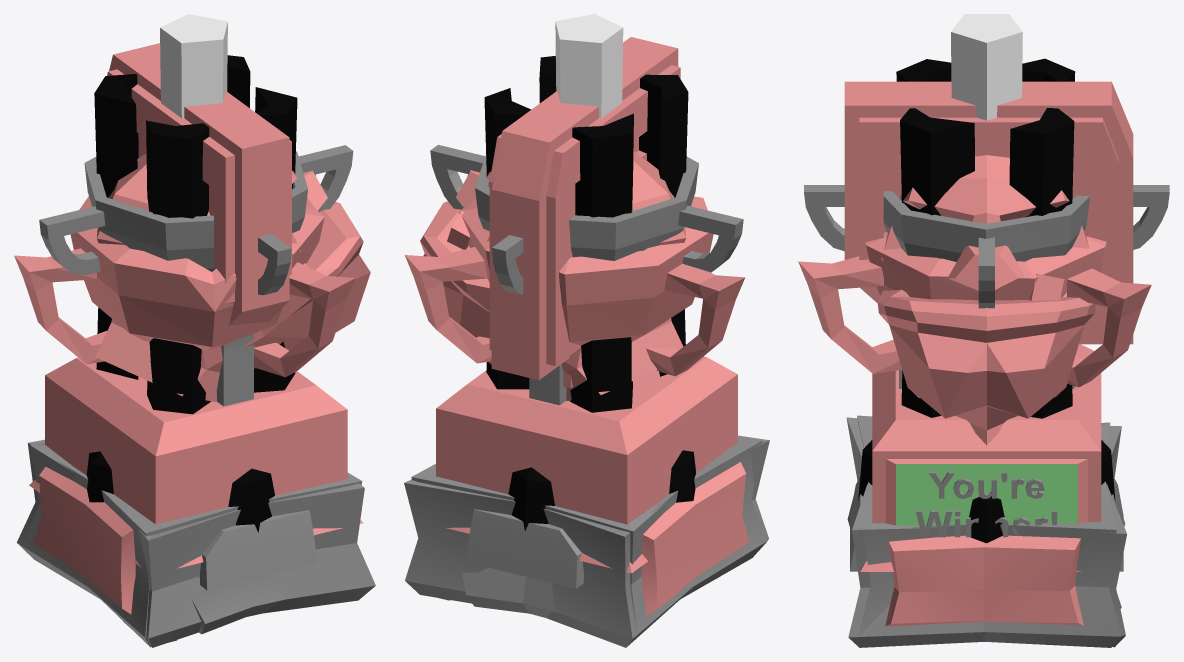
File: YourWinner.fbx
3 renders of one model, left to right at view 1: azimuth 30°, elevation 25°; view 2: azimuth 150°, elevation 25°; view 3: azimuth 270°, elevation 25°, orthographic. The views are drawn at different scales.
Parts seen in each view (by area): view 1: YoureWinner, SM_Trophy, SM_TwitchTrophy, SM_DCP, SM_TrophyHunter, SM_dep2017; view 2: SM_TwitchTrophy, YoureWinner, SM_Trophy, SM_DCP, SM_TrophyHunter, SM_dep2017; view 3: SM_Trophy, YoureWinner, SM_TwitchTrophy, SM_TrophyHunter, SM_DCP, SM_dep2017.
Part boxes in pixels (bbox=[...]): YoureWinner: bbox=[29, 145, 363, 568]; SM_Trophy: bbox=[14, 196, 375, 647]; SM_TwitchTrophy: bbox=[16, 43, 362, 647]; SM_DCP: bbox=[86, 14, 297, 532]; SM_TrophyHunter: bbox=[95, 153, 370, 401]; SM_dep2017: bbox=[199, 334, 317, 590]; SM_TwitchTrophy: bbox=[404, 37, 767, 647]; YoureWinner: bbox=[430, 144, 743, 573]; SM_Trophy: bbox=[405, 196, 769, 632]; SM_DCP: bbox=[484, 14, 695, 530]; SM_TrophyHunter: bbox=[420, 151, 686, 400]; SM_dep2017: bbox=[466, 364, 584, 588]; SM_Trophy: bbox=[798, 232, 1151, 647]; YoureWinner: bbox=[804, 185, 1169, 571]; SM_TwitchTrophy: bbox=[844, 81, 1133, 647]; SM_TrophyHunter: bbox=[877, 155, 1095, 445]; SM_DCP: bbox=[858, 14, 1115, 543]; SM_dep2017: bbox=[850, 369, 1123, 571].
Size of the model in its own units: 82.9 by 138 by 81.57.
